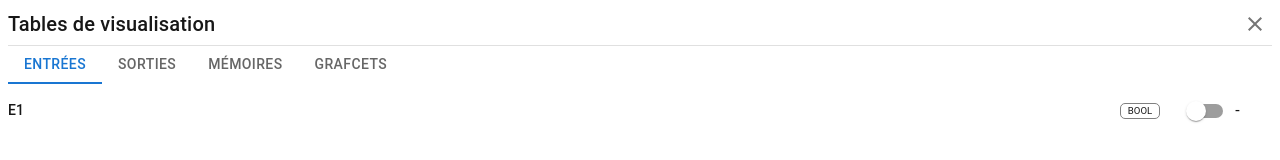
Test: WatchTables › switches to the grafcets tab
Click the tab "Grafcets" at (351,70), box [298, 54, 403, 86]
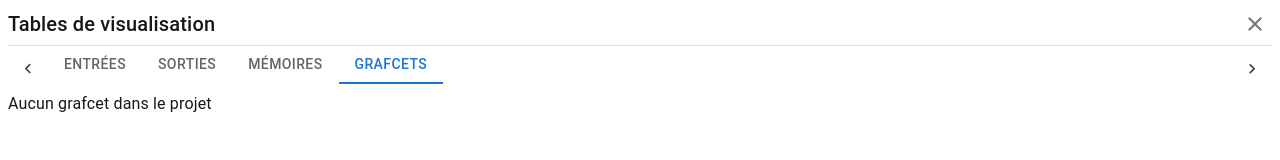
Check: the text "Aucun grafcet dans le projet" is shown, box [8, 94, 212, 113]
